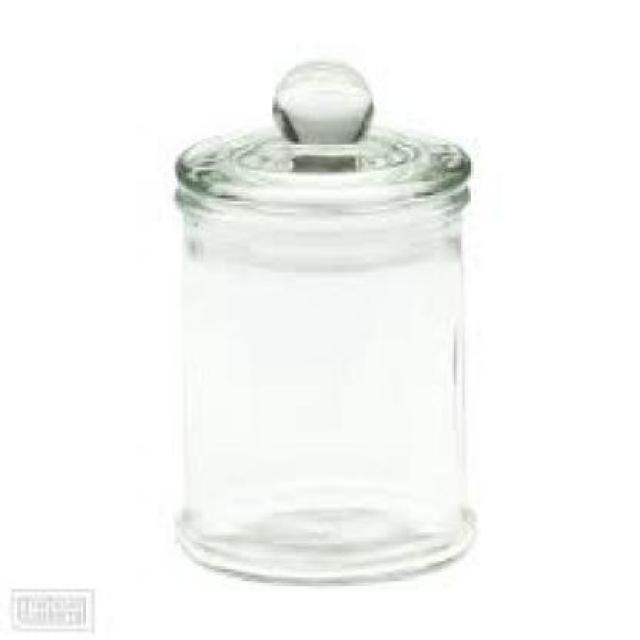GLASS: (178, 59, 473, 578)
